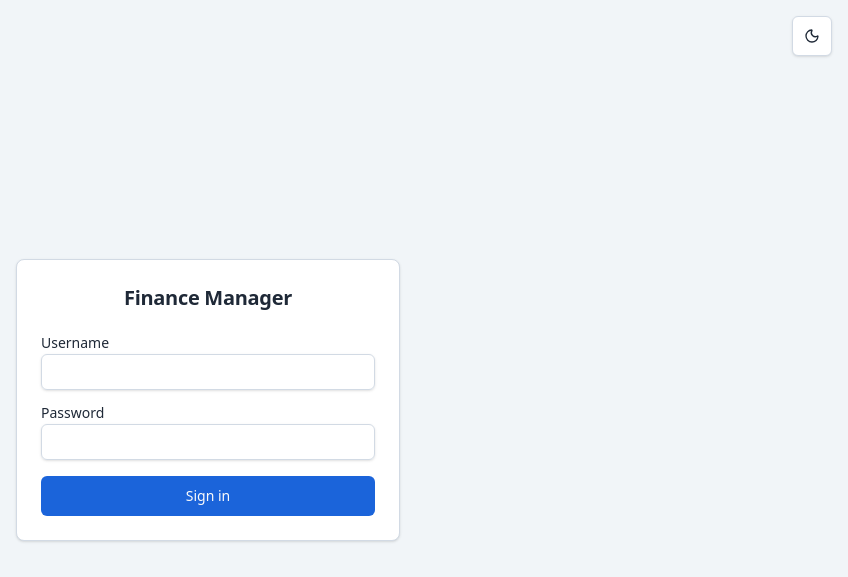
Test: LoginPage — network error (Req 1.7) › displays "Service unavailable" on network error
Type "myuser" into the field labelled "Username". click: (208, 372)
box: [41, 354, 375, 390]
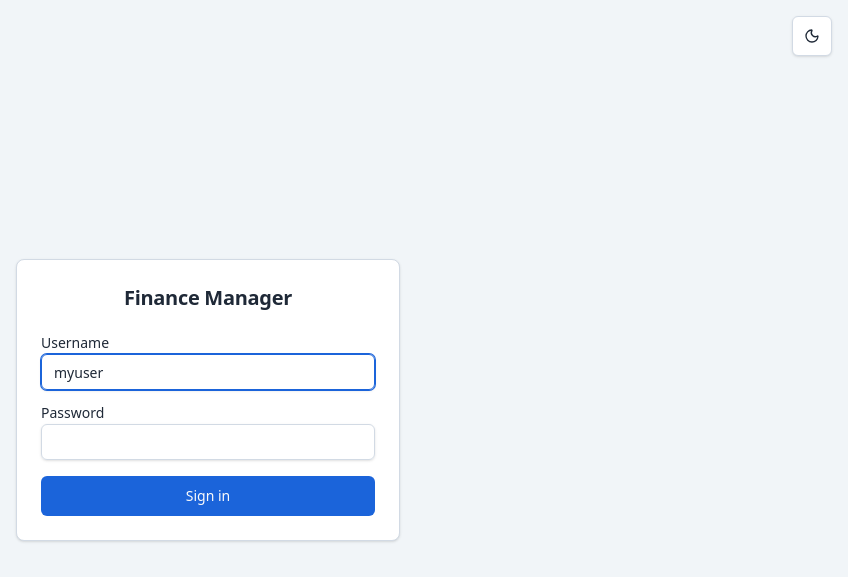
Type "SecurePass1" into the password field labelled "Password". click: (208, 442)
box: [41, 424, 375, 460]
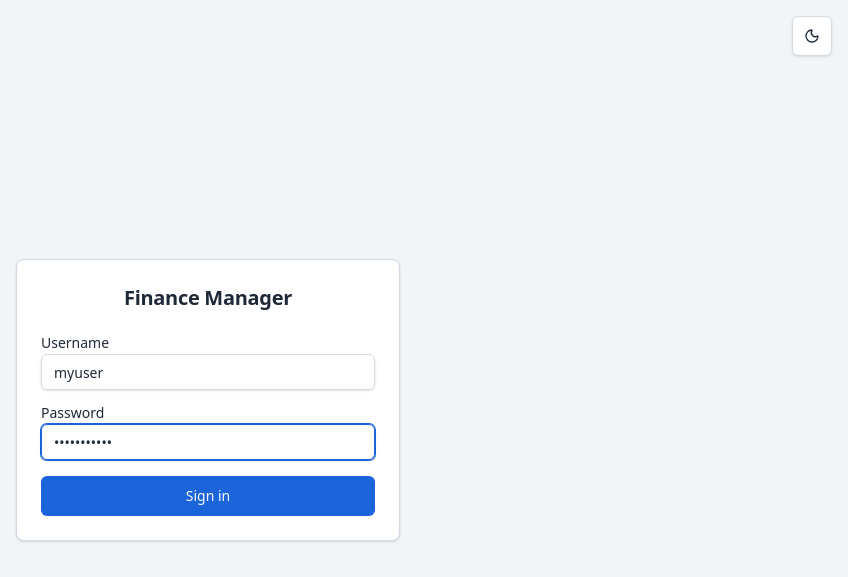
Click the button "Sign in". click: (208, 496)
box: [41, 476, 375, 516]
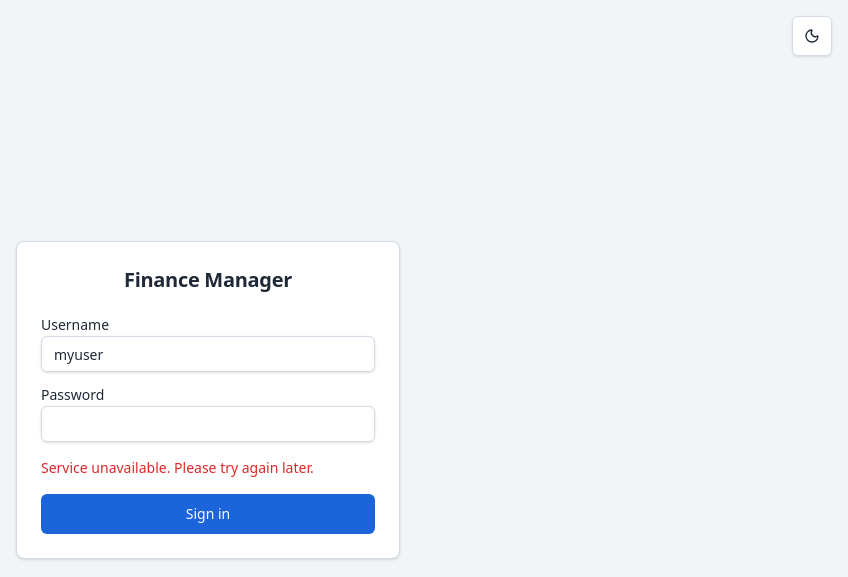
Now the text "Service unavailable. Please try again later." is shown, box [41, 458, 314, 477]
